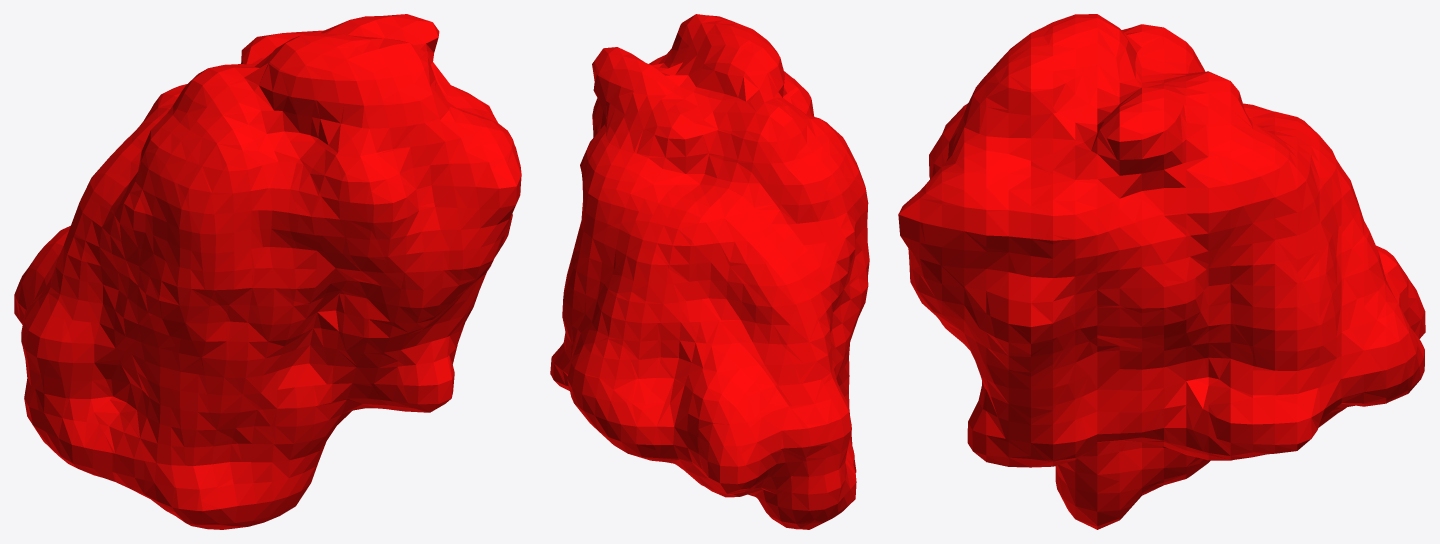
Rendered from codB_coarse.dae.
The picture shows the model from 3 angles, left to right: view 1: azimuth 30°, elevation 25°; view 2: azimuth 150°, elevation 25°; view 3: azimuth 270°, elevation 25°; orthographic projection. The views are drawn at different scales.
Visible parts, largest first — view 1: codB; view 2: codB; view 3: codB.
Part boxes in pixels (bbox=[...]): codB: bbox=[14, 14, 521, 529]; codB: bbox=[550, 14, 869, 529]; codB: bbox=[898, 14, 1425, 529].
Bounding box in the file's own units: 56.17 × 68.92 × 61.97.
